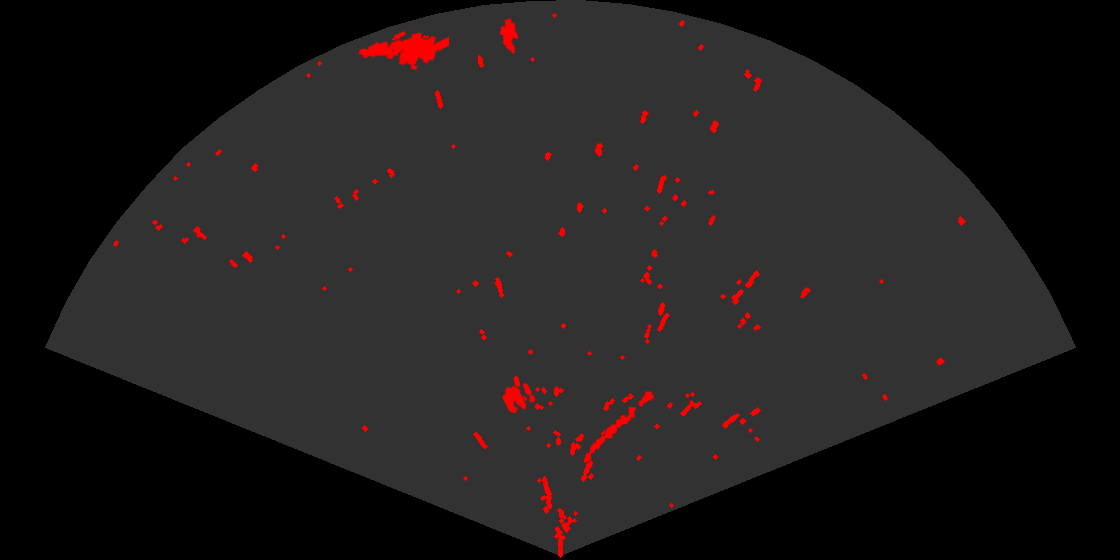AUV: (498, 16, 520, 56)
ball: (501, 381, 537, 415)
chain: (582, 390, 656, 465)
frogman: (357, 31, 449, 72)
